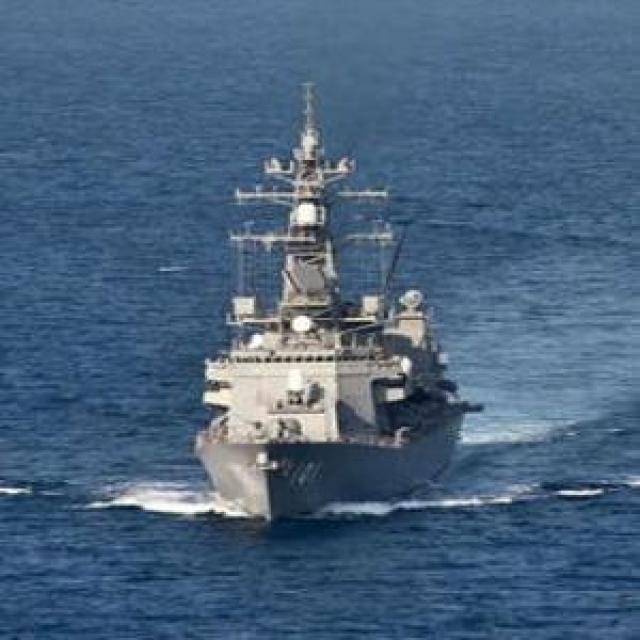navalvessels: (143, 83, 492, 527)
